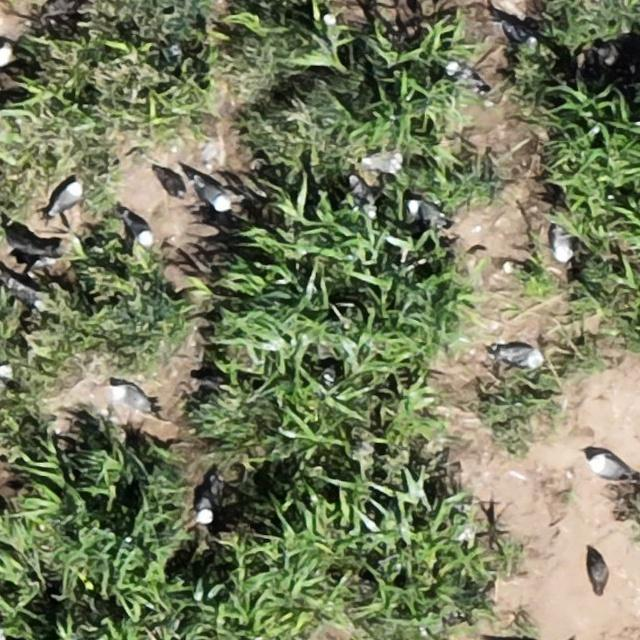umineko: (445, 61, 492, 91), (111, 388, 152, 413), (196, 181, 227, 211), (51, 182, 80, 213), (125, 216, 152, 246), (407, 199, 441, 222), (197, 482, 216, 522), (588, 457, 622, 479), (500, 20, 534, 42), (502, 347, 540, 366), (552, 229, 570, 262), (0, 44, 9, 68)
